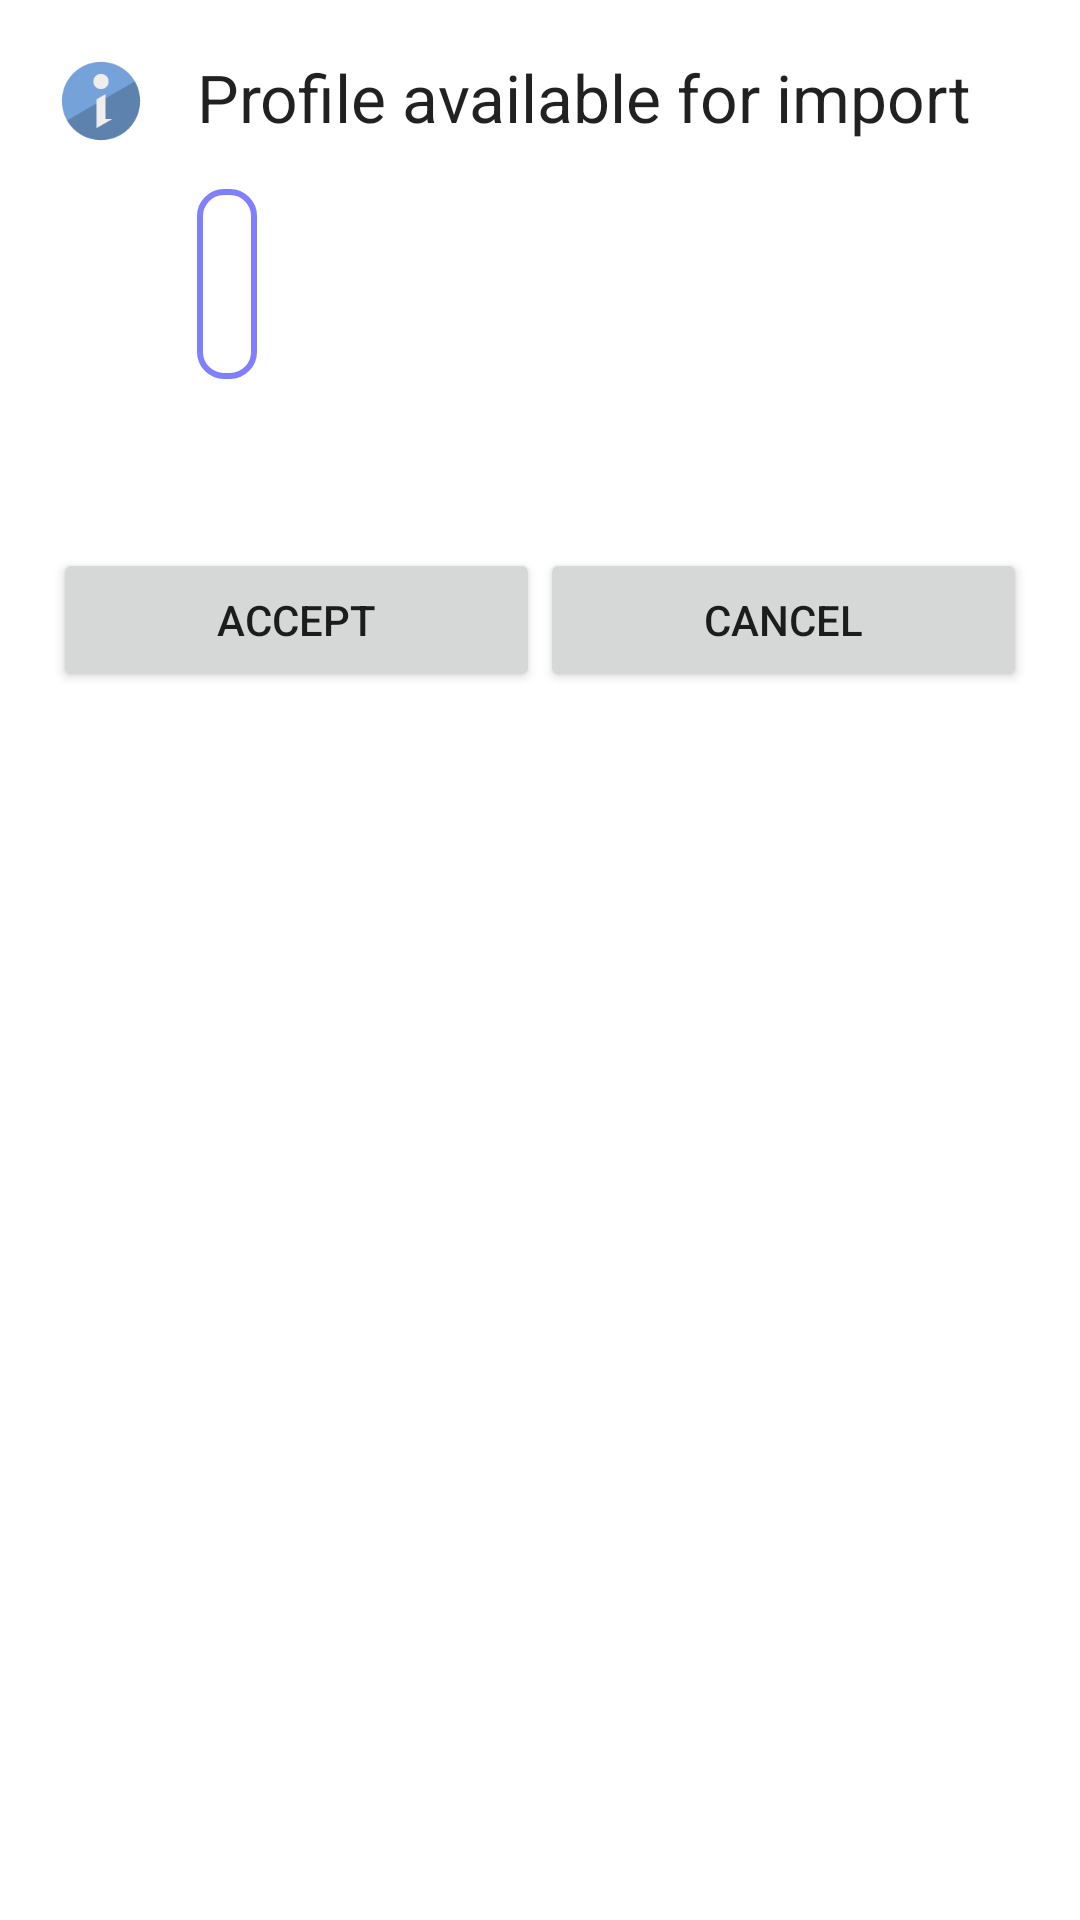

Where icons sit on this 1080 x 1920 app screen, as bbox=[x1, y1, x2, y2]:
info: bbox=[61, 61, 141, 141]
